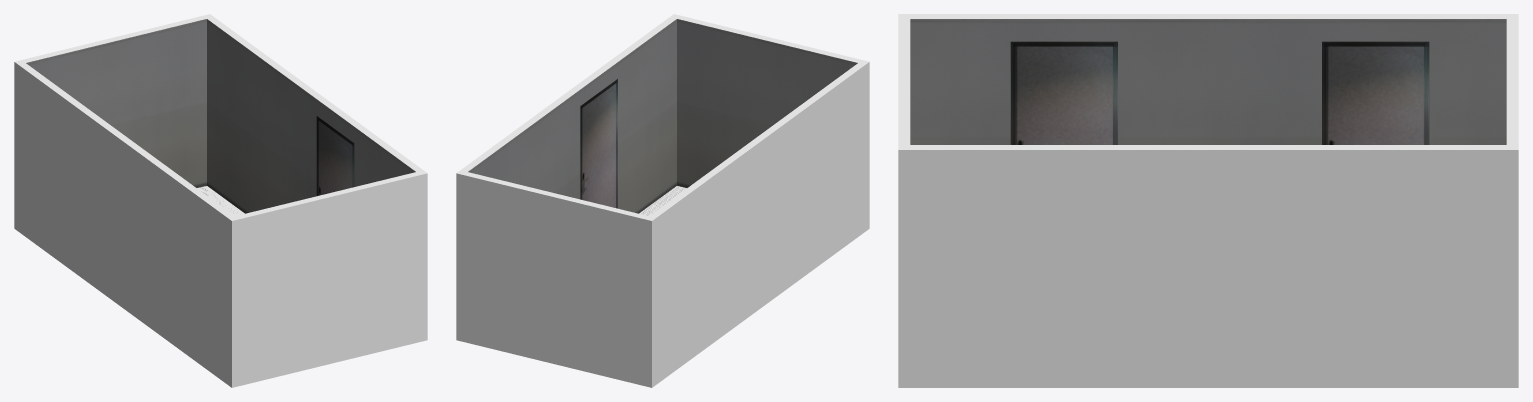
The model's file is corridor.dae.
3 views of the same model, side by side, from view 1: azimuth 30°, elevation 25°; view 2: azimuth 150°, elevation 25°; view 3: azimuth 270°, elevation 25° (orthographic). The views are drawn at different scales.
Visible parts, largest first — view 1: SketchUp (×3), instance_2; view 2: SketchUp (×3), instance_2; view 3: SketchUp (×2), instance_0, instance_1.
Part boxes in pixels (x1,y1,x2,y2): SketchUp (×3): (14, 14, 427, 387); instance_2: (316, 116, 354, 195); SketchUp (×3): (456, 14, 869, 387); instance_2: (580, 79, 617, 208); SketchUp (×2): (898, 14, 1518, 387); instance_0: (1010, 41, 1117, 144); instance_1: (1322, 41, 1429, 144).
Bounding box in the file's own units: 106 × 205 × 86.61.
Materials: 4 (3 with a texture image).
